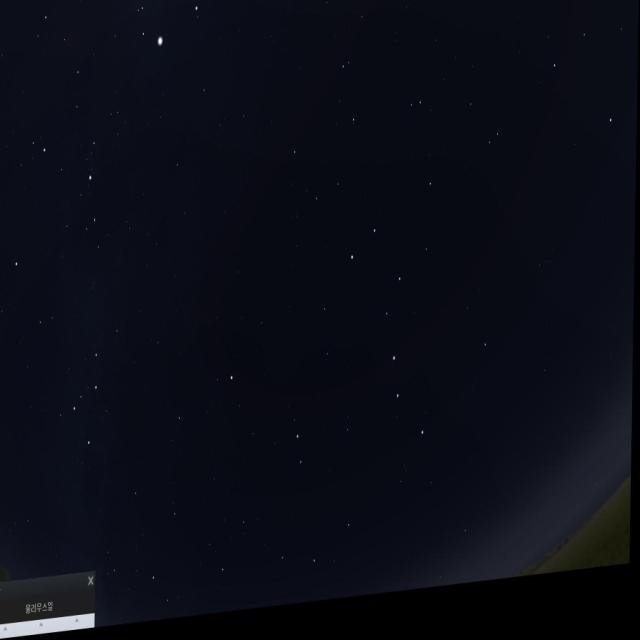cassiopeia: (65, 302, 144, 488)
ursa_major: (346, 218, 434, 470)
